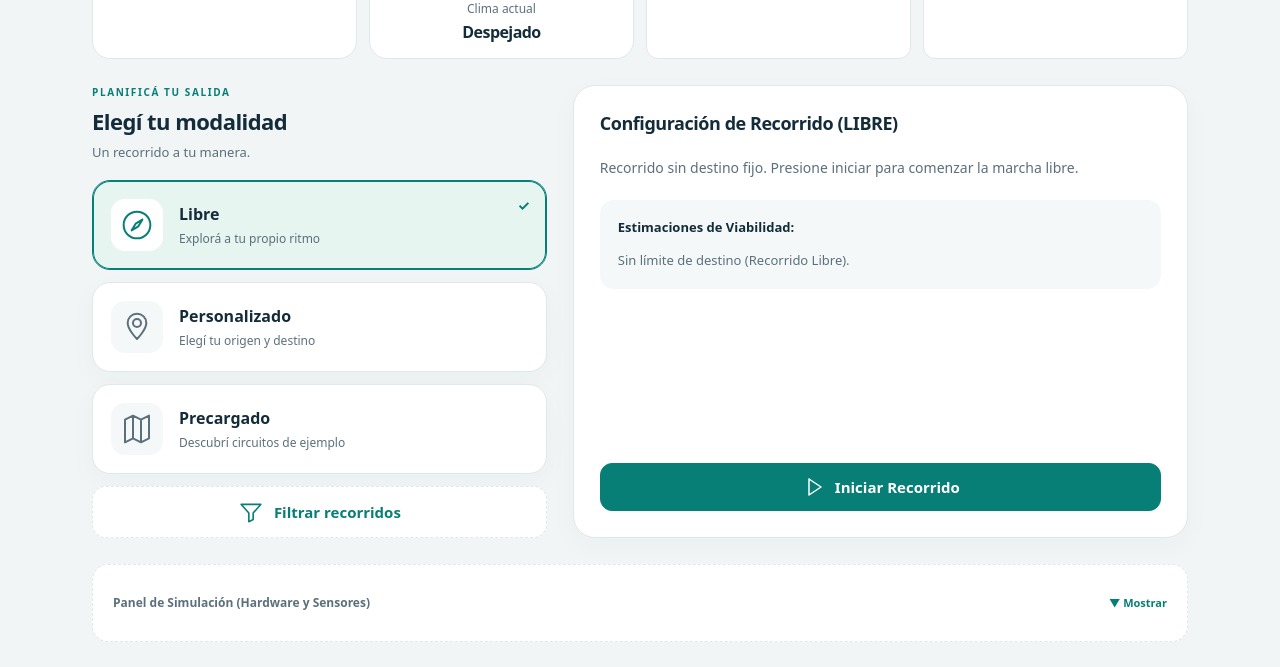
TC-29: una alerta de batería hace pitido y dice su descripción en español
(page scrolled)
Click the text "Panel de Simulación (Hardware y Sensores)" at [242, 603], box [113, 594, 370, 612]
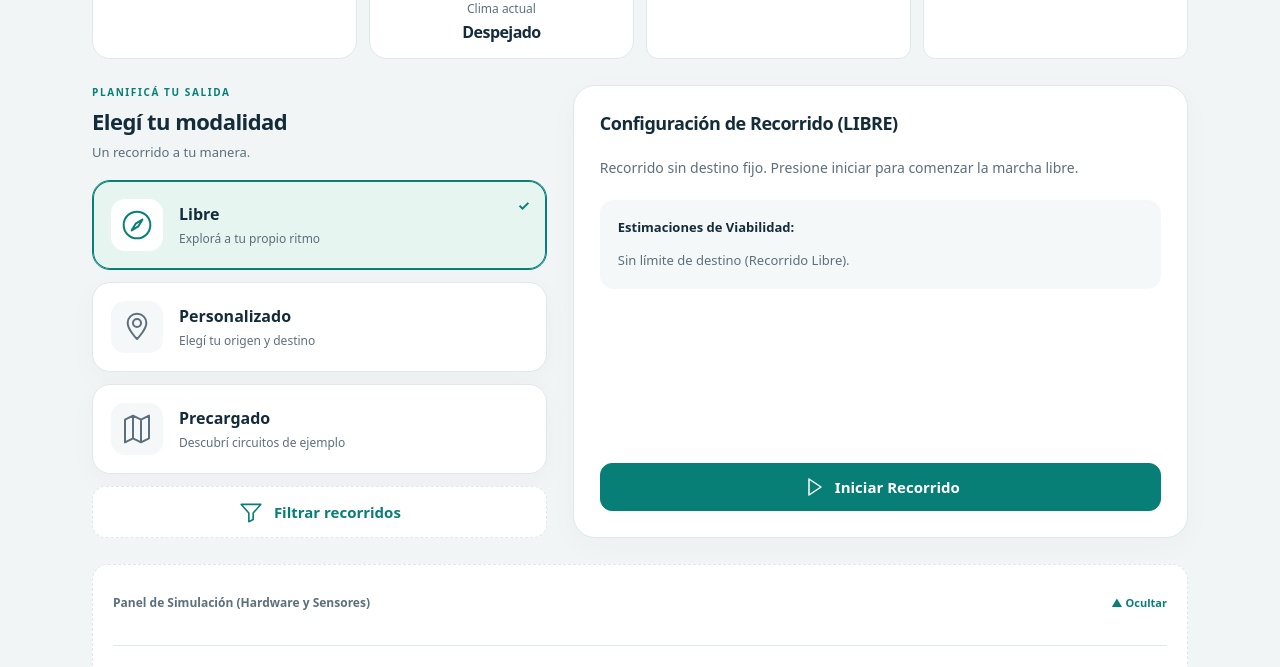
Click the button "Iniciar Recorrido" at [880, 487], box [600, 463, 1161, 511]
(page scrolled)
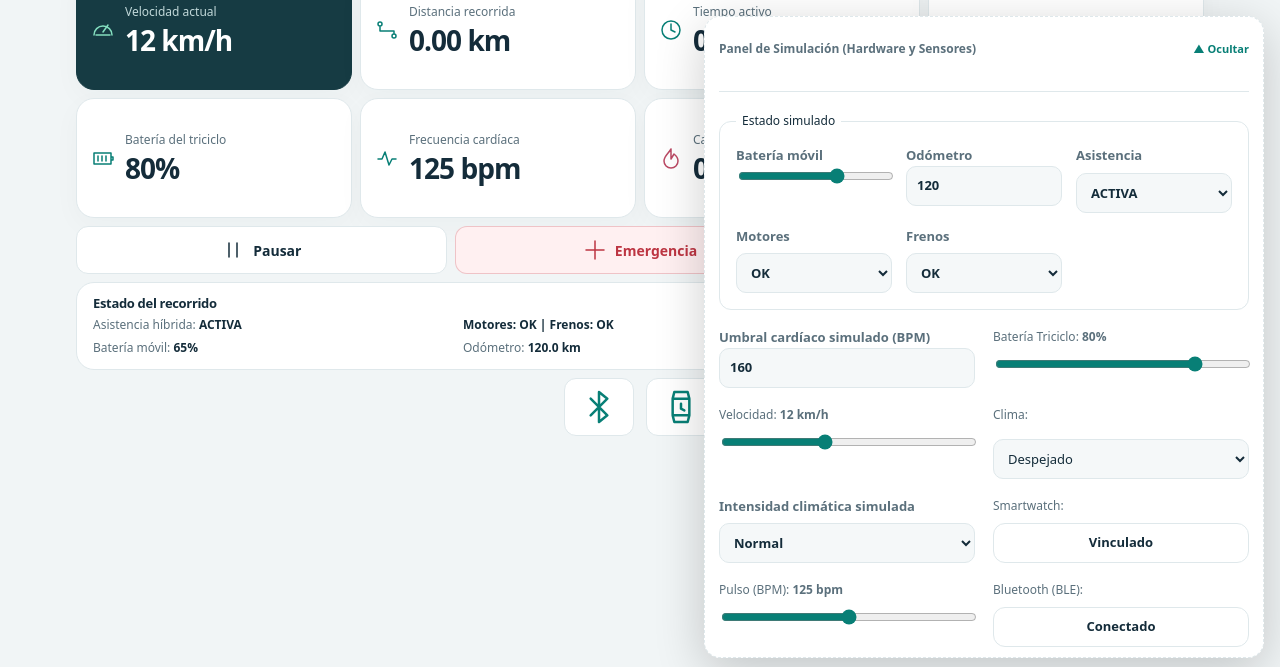
Set the slider named "Batería del triciclo" to "19" at [1049, 364], box [995, 356, 1251, 372]
Wait 1000 ms
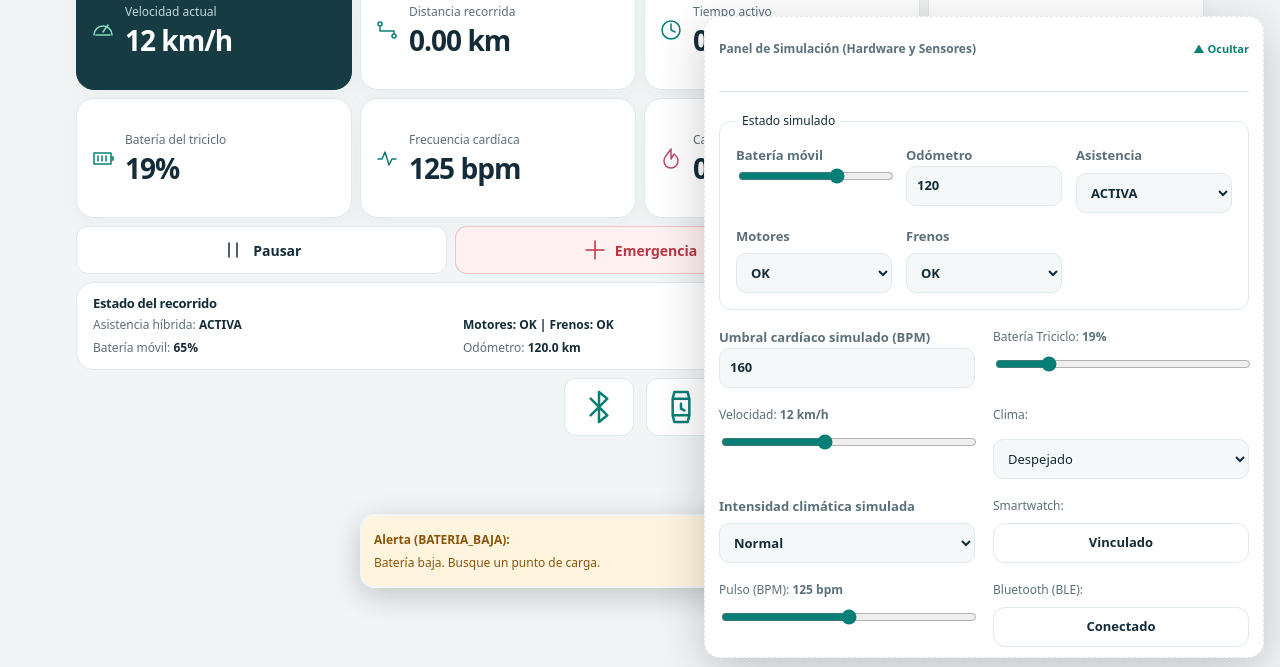
Check: the element "Confirmar" shows "Batería baja. Busque un punto de carga.", box [374, 554, 600, 570]
